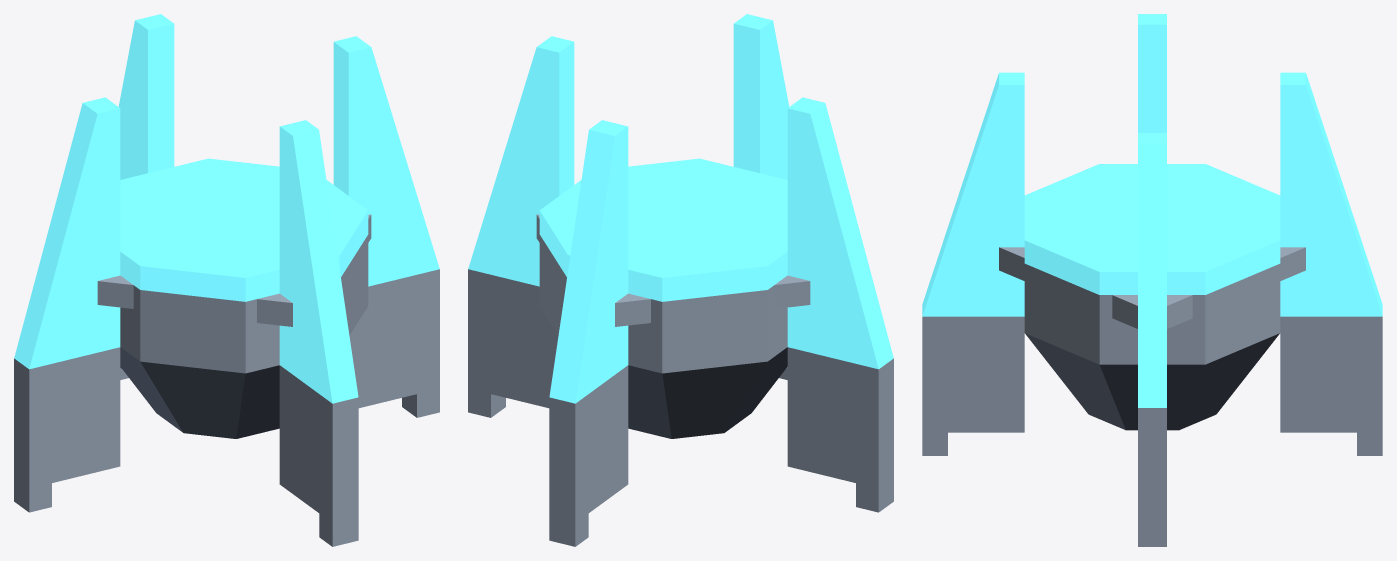
File: rocket_baseA.glb
The picture shows the model from 3 angles, left to right: view 1: azimuth 30°, elevation 25°; view 2: azimuth 150°, elevation 25°; view 3: azimuth 270°, elevation 25°; orthographic projection. The views are drawn at different scales.
Parts seen in each view (by area): view 1: rocket_baseA; view 2: rocket_baseA; view 3: rocket_baseA.
Boxes of the visible parts, x1,y1,x2,y2 form: rocket_baseA: [14, 14, 439, 546]; rocket_baseA: [468, 14, 893, 546]; rocket_baseA: [922, 14, 1382, 546].
Bounding box in the file's own units: 1.8 × 1.6 × 1.8.
